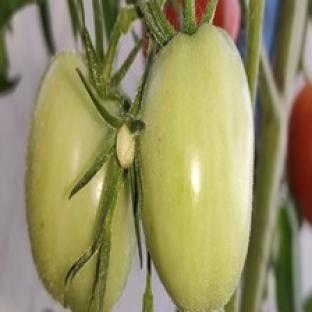Tomato: (141, 24, 253, 310), (26, 53, 107, 311), (289, 83, 311, 224)
